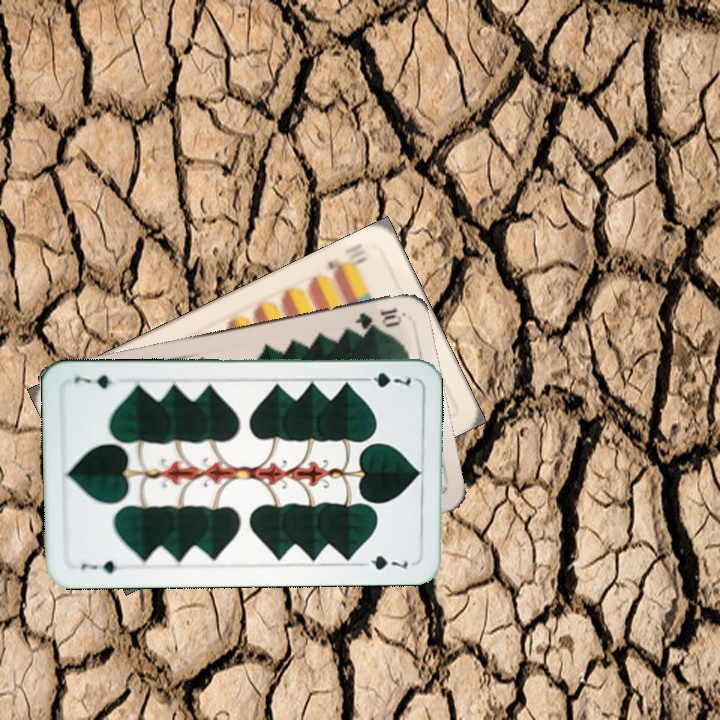E10: (323, 239, 370, 280)
G10: (351, 304, 405, 332)
G7: (356, 368, 414, 391), (76, 557, 120, 577)
